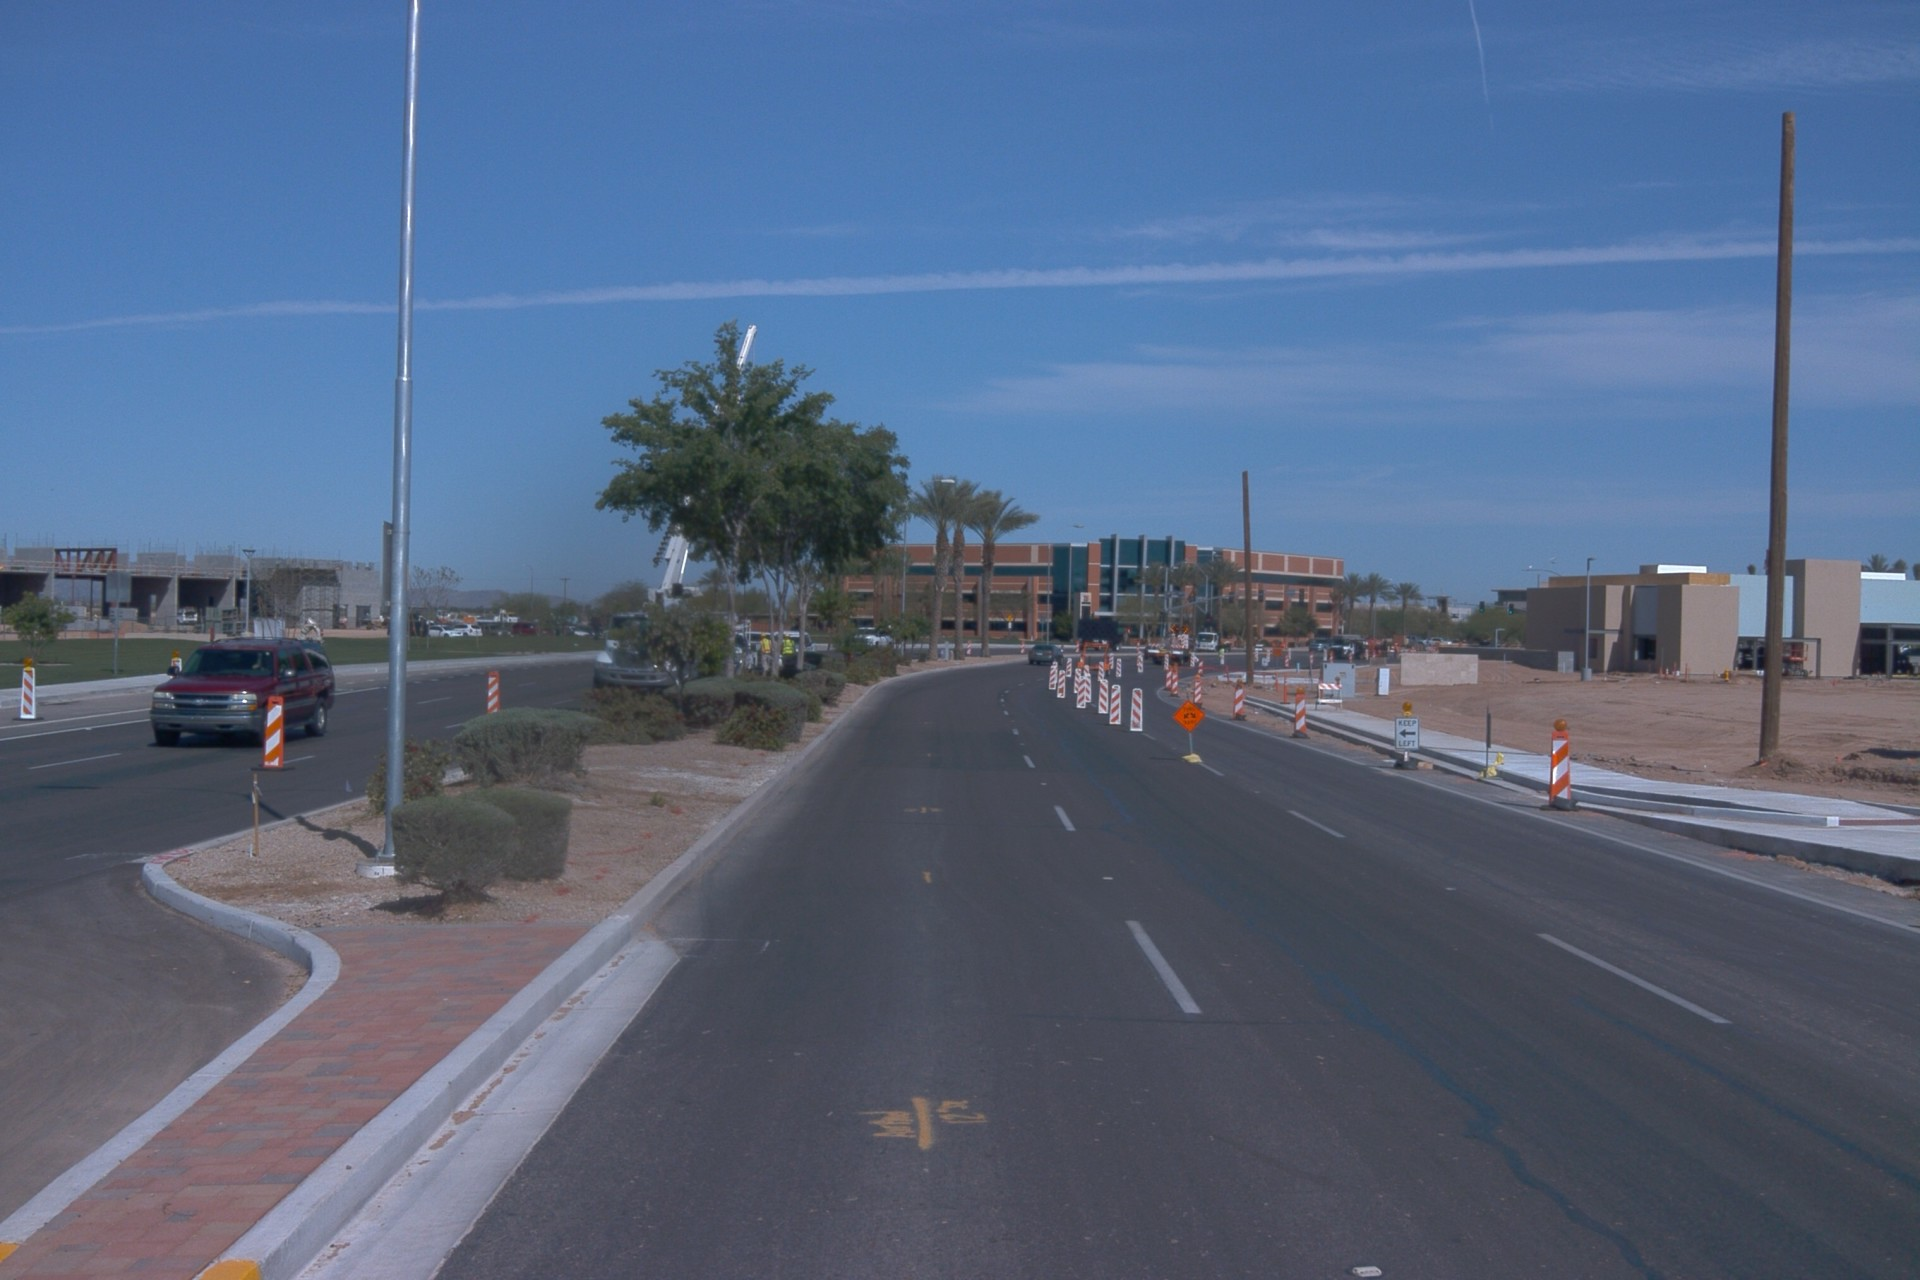TYPE_PEDESTRIAN: (757, 633, 774, 676), (780, 633, 797, 656), (1217, 644, 1228, 665)
TYPE_VEHICLE: (573, 321, 762, 717), (147, 628, 336, 752), (723, 561, 832, 681), (1071, 611, 1124, 682), (1139, 619, 1196, 666), (1323, 634, 1397, 664), (718, 619, 757, 672), (776, 626, 818, 665), (849, 624, 898, 657), (1070, 624, 1121, 655), (743, 629, 776, 676), (511, 616, 563, 639), (1193, 628, 1233, 654), (1027, 642, 1066, 668), (426, 617, 465, 642), (384, 619, 430, 639), (731, 611, 753, 650), (477, 621, 519, 640), (387, 615, 433, 631), (451, 620, 484, 639), (173, 607, 198, 627), (1307, 637, 1337, 652)
